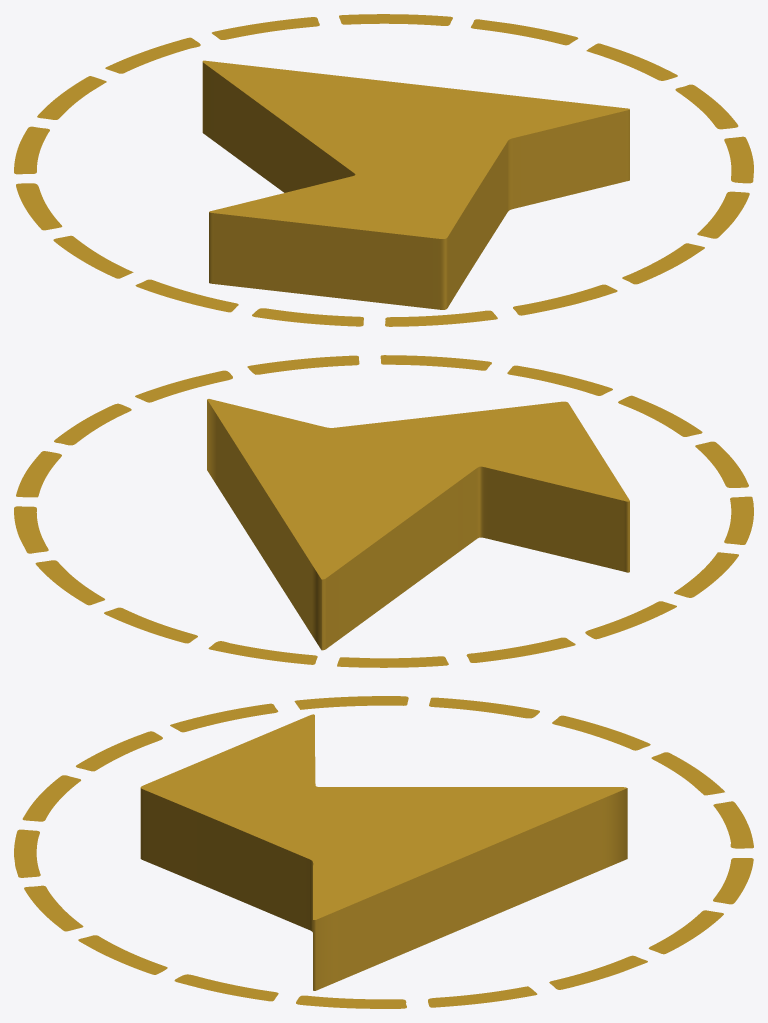
The model's file is enactus.glb.
The picture shows the model from 3 angles, top to bottom: view 1: azimuth 30°, elevation 25°; view 2: azimuth 150°, elevation 25°; view 3: azimuth 270°, elevation 25°; orthographic projection.
Visible parts, largest first — view 1: Curve.001, Curve.014, Curve.017, Curve.016, Curve.018, Curve.020, Curve.015, Curve.022, Curve.021, Curve.028, Curve.030, Curve.019 (+6 smaller); view 2: Curve.001, Curve.015, Curve.020, Curve.019, Curve.016, Curve.018, Curve.014, Curve.028, Curve.024, Curve.025, Curve.023, Curve.017 (+6 smaller); view 3: Curve.001, Curve.017, Curve.015, Curve.014, Curve.019, Curve.021, Curve.023, Curve.016, Curve.026, Curve.022, Curve.020, Curve.018 (+6 smaller).
Boxes of the visible parts, bbox=[...] form: Curve.001: bbox=[202, 60, 629, 309]; Curve.014: bbox=[252, 308, 363, 326]; Curve.017: bbox=[135, 279, 238, 312]; Curve.016: bbox=[339, 14, 452, 25]; Curve.018: bbox=[385, 310, 497, 326]; Curve.020: bbox=[513, 284, 617, 315]; Curve.015: bbox=[697, 191, 749, 238]; Curve.022: bbox=[471, 19, 578, 45]; Curve.021: bbox=[53, 235, 133, 278]; Curve.028: bbox=[105, 37, 200, 73]; Curve.030: bbox=[212, 17, 319, 39]; Curve.019: bbox=[14, 126, 49, 174]; Curve.001: bbox=[207, 399, 629, 650]; Curve.015: bbox=[247, 355, 359, 374]; Curve.020: bbox=[507, 365, 612, 395]; Curve.019: bbox=[466, 637, 575, 662]; Curve.016: bbox=[35, 560, 104, 605]; Curve.018: bbox=[618, 395, 702, 436]; Curve.014: bbox=[695, 441, 748, 487]; Curve.028: bbox=[208, 641, 317, 664]; Curve.024: bbox=[337, 656, 448, 667]; Curve.025: bbox=[380, 355, 491, 370]; Curve.023: bbox=[585, 601, 676, 639]; Curve.017: bbox=[724, 496, 753, 544]; Curve.001: bbox=[140, 714, 627, 990]; Curve.017: bbox=[170, 703, 278, 732]; Curve.015: bbox=[78, 935, 167, 974]; Curve.014: bbox=[76, 731, 162, 771]; Curve.019: bbox=[552, 715, 650, 750]; Curve.021: bbox=[294, 696, 408, 709]; Curve.023: bbox=[429, 697, 539, 718]; Curve.016: bbox=[648, 910, 723, 954]; Curve.026: bbox=[428, 986, 537, 1007]; Curve.022: bbox=[549, 955, 647, 989]; Curve.020: bbox=[14, 829, 40, 877]; Curve.018: bbox=[22, 775, 80, 821].
Size of the model in its own units: 1.89 by 0.2 by 1.89.
